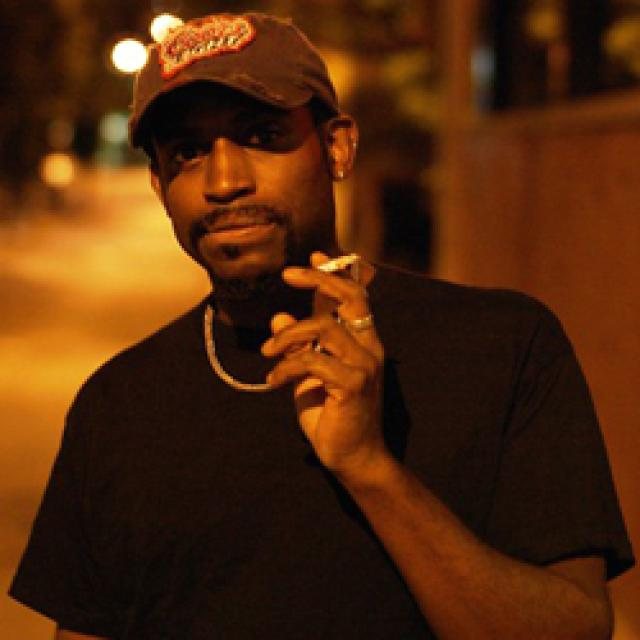Smooking: (310, 246, 357, 287)
